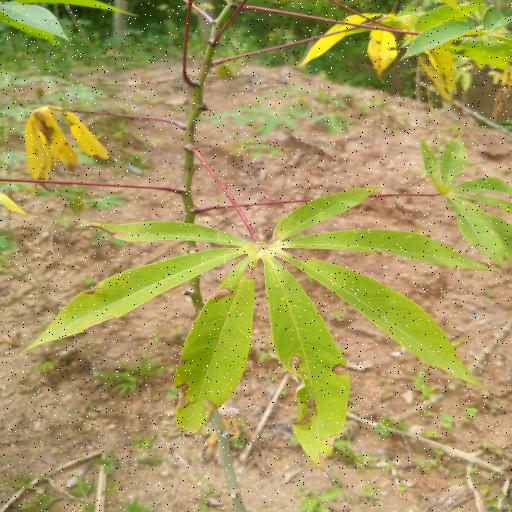Cassava_Brown_Leaf_Spot: (34, 184, 486, 461)
